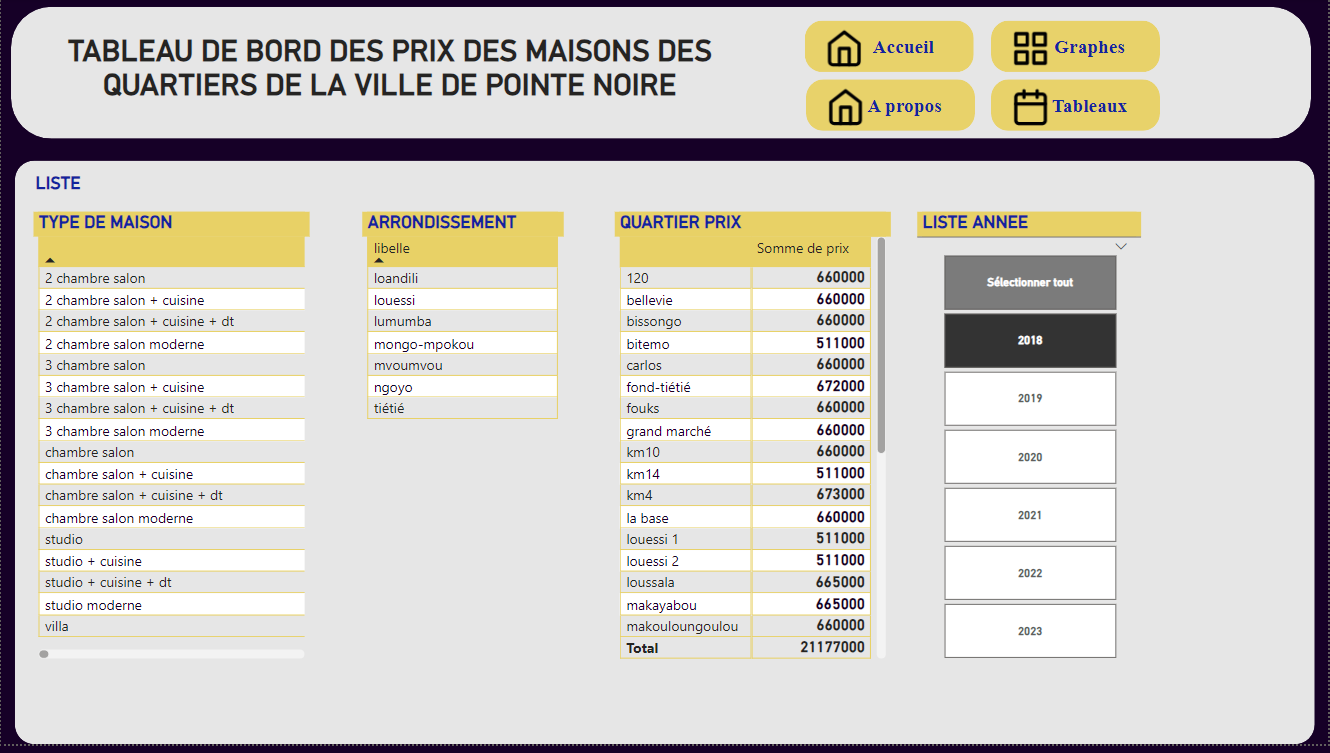

What the dashboard file says about the page in this screenshot:
{"tool":"powerbi","page":{"name":"tableaux","canvas":[1280,720],"ordinal":1},"visuals":[{"type":"shape","box":[9.5,8.3,1254.3,127.3],"z":0},{"type":"textbox","box":[59,28.8,632.1,86.4],"z":1000},{"type":"actionButton","box":[775.9,21.4,163,50],"z":2000},{"type":"actionButton","box":[955.6,21.4,163,50],"z":3000},{"type":"actionButton","box":[955.6,78.5,163,50],"z":4000},{"type":"actionButton","box":[777.1,78.5,163,50],"z":5000},{"type":"shape","box":[13.3,156.8,1254.3,563.2],"z":6000},{"type":"pivotTable","title":"TYPE DE MAISON","fields":{"Rows":["type.libellé"],"Columns":["type.id"]},"box":[31.4,206.2,266.5,436.6],"z":7000},{"type":"pivotTable","title":"ARRONDISSEMENT","fields":{"Rows":["arrondissement.libelle"]},"box":[348.5,206.2,194.2,436.6],"z":8000},{"type":"pivotTable","title":"QUARTIER PRIX","fields":{"Rows":["quartier.libelle"],"Values":["Sum(detail.prix)"]},"box":[592.2,206.2,266.5,436.6],"z":9000},{"type":"slicer","title":"LISTE ANNEE","fields":{"Values":["detail.annee"]},"box":[884,206.2,215.9,436.6],"z":10000}]}

Visuals, with their boxes in screenshot pixels (x1, y1, x2, y2), scaled from the page's 1280x720 canvas onto the 1330x753 screenshot:
shape: [x1=10, y1=9, x2=1313, y2=142]
textbox: [x1=61, y1=30, x2=718, y2=120]
actionButton: [x1=806, y1=22, x2=976, y2=75]
actionButton: [x1=993, y1=22, x2=1162, y2=75]
actionButton: [x1=993, y1=82, x2=1162, y2=134]
actionButton: [x1=807, y1=82, x2=977, y2=134]
shape: [x1=14, y1=164, x2=1317, y2=752]
"TYPE DE MAISON" pivotTable: [x1=33, y1=216, x2=310, y2=672]
"ARRONDISSEMENT" pivotTable: [x1=362, y1=216, x2=564, y2=672]
"QUARTIER PRIX" pivotTable: [x1=615, y1=216, x2=892, y2=672]
"LISTE ANNEE" slicer: [x1=919, y1=216, x2=1143, y2=672]
